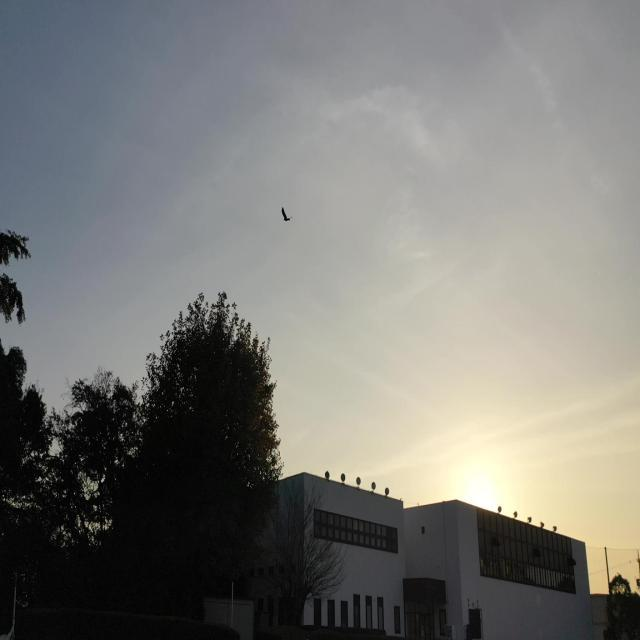Birds: (273, 195, 299, 234)
